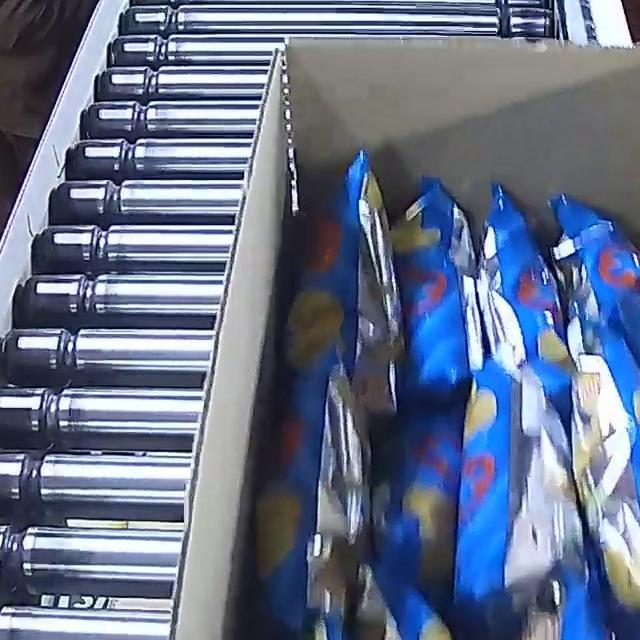paprika: (224, 140, 640, 640)
